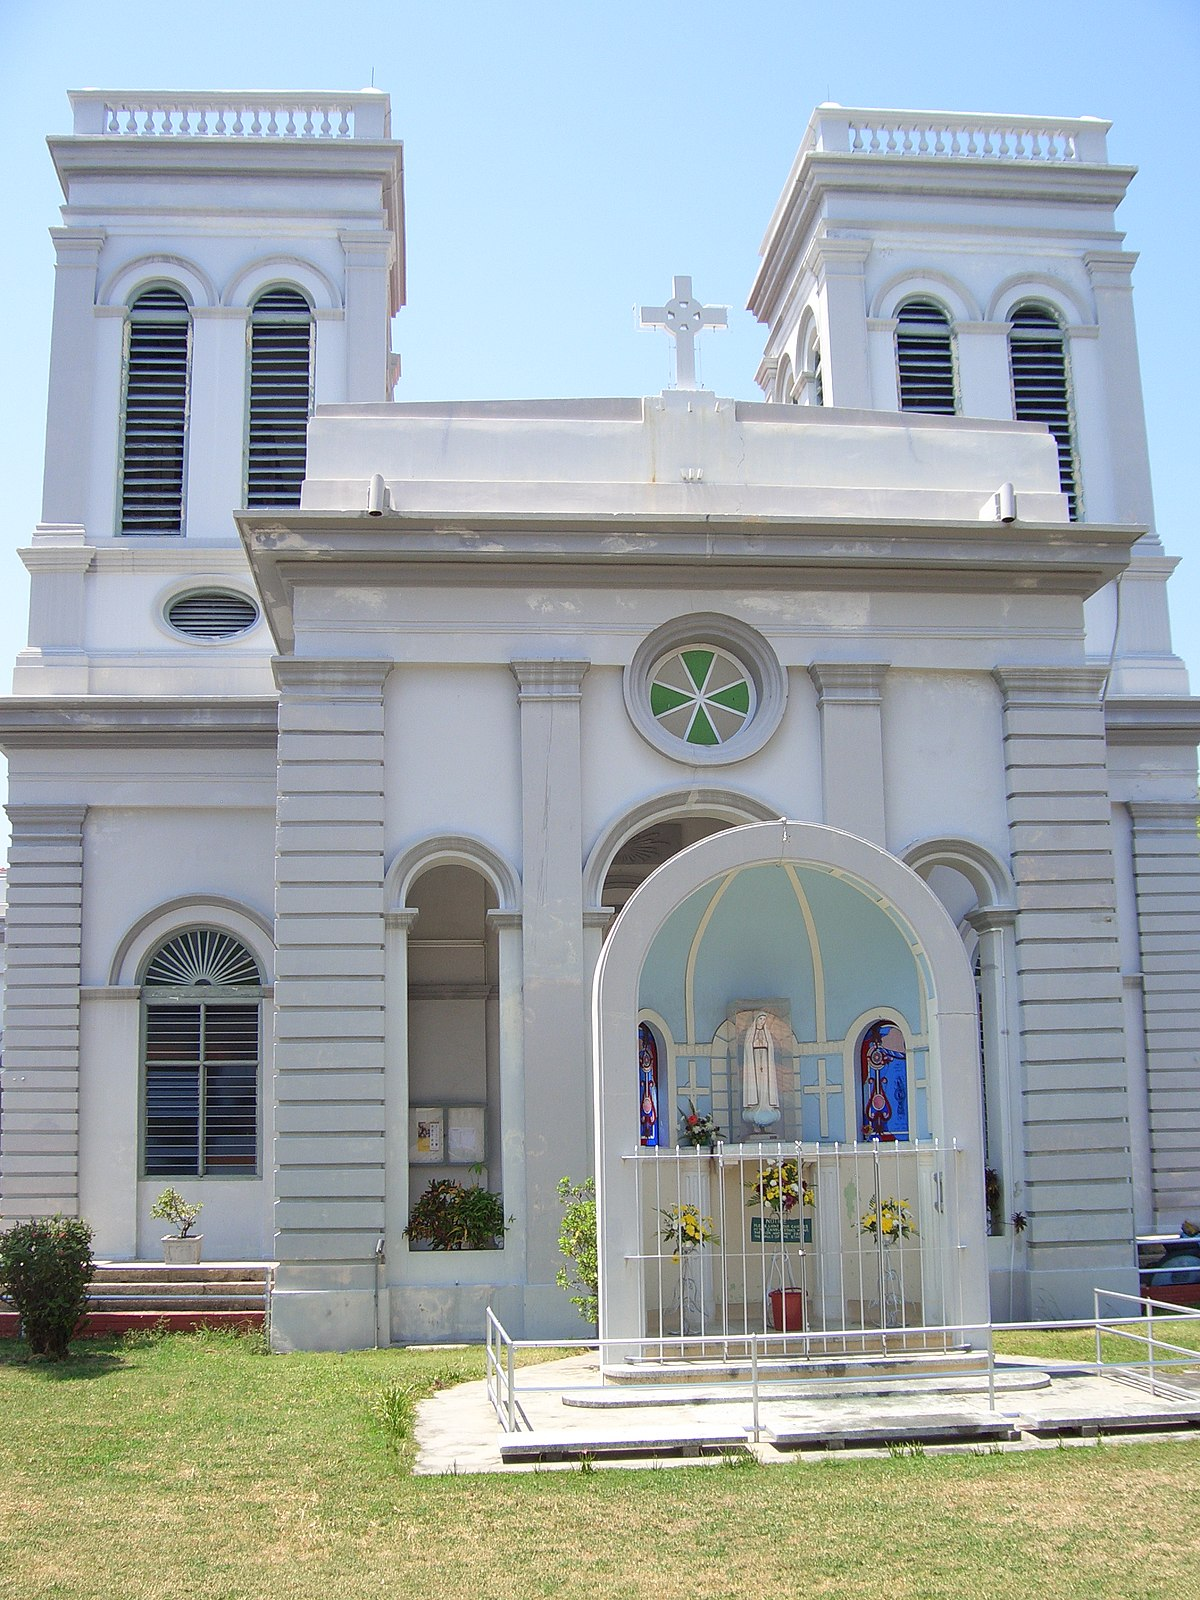Church: (21, 57, 1200, 1259)
